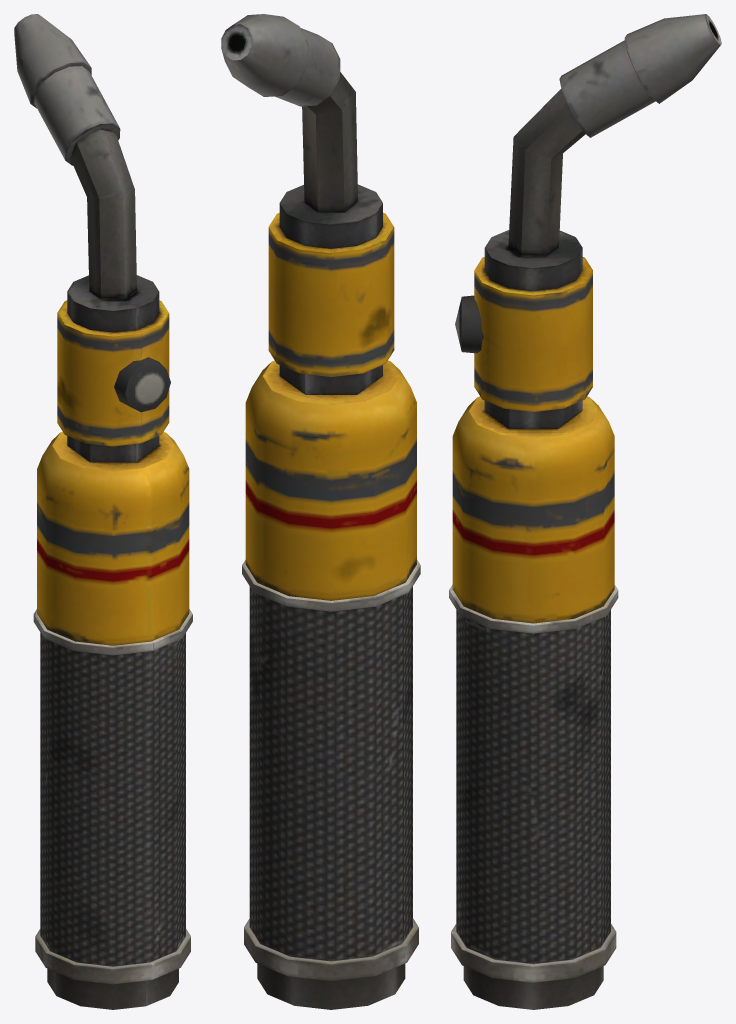
The model's file is Welder.FBX.
3 renders of one model, left to right at view 1: azimuth 30°, elevation 25°; view 2: azimuth 150°, elevation 25°; view 3: azimuth 270°, elevation 25°, orthographic. The views are drawn at different scales.
Visible parts, largest first — view 1: Welder_LP; view 2: Welder_LP; view 3: Welder_LP.
Boxes of the visible parts, x1,y1,x2,y2 form: Welder_LP: (14,14,192,1009); Welder_LP: (221,14,420,1009); Welder_LP: (449,14,721,1009).
Bounding box in the file's own units: 5.71 × 36.51 × 9.22.
